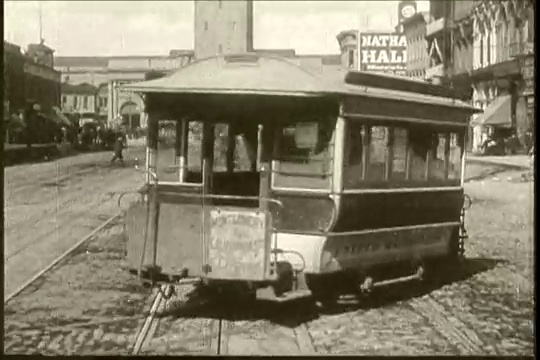trolley: (122, 44, 482, 316)
